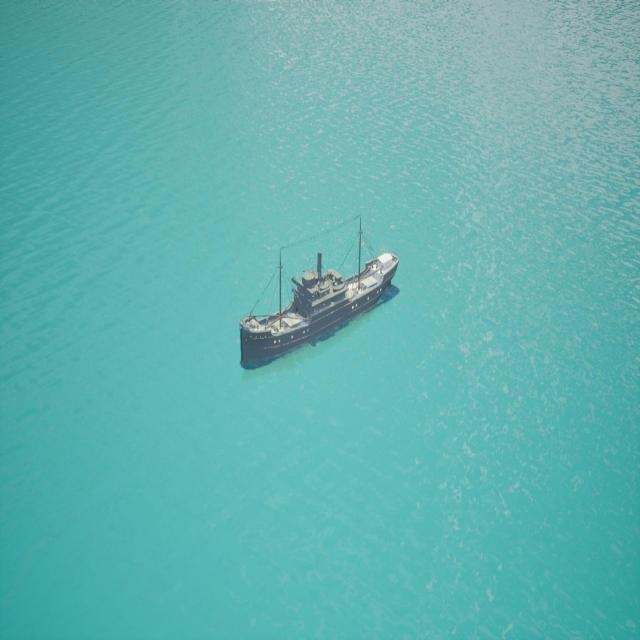fishing ship: (240, 250, 402, 371)
